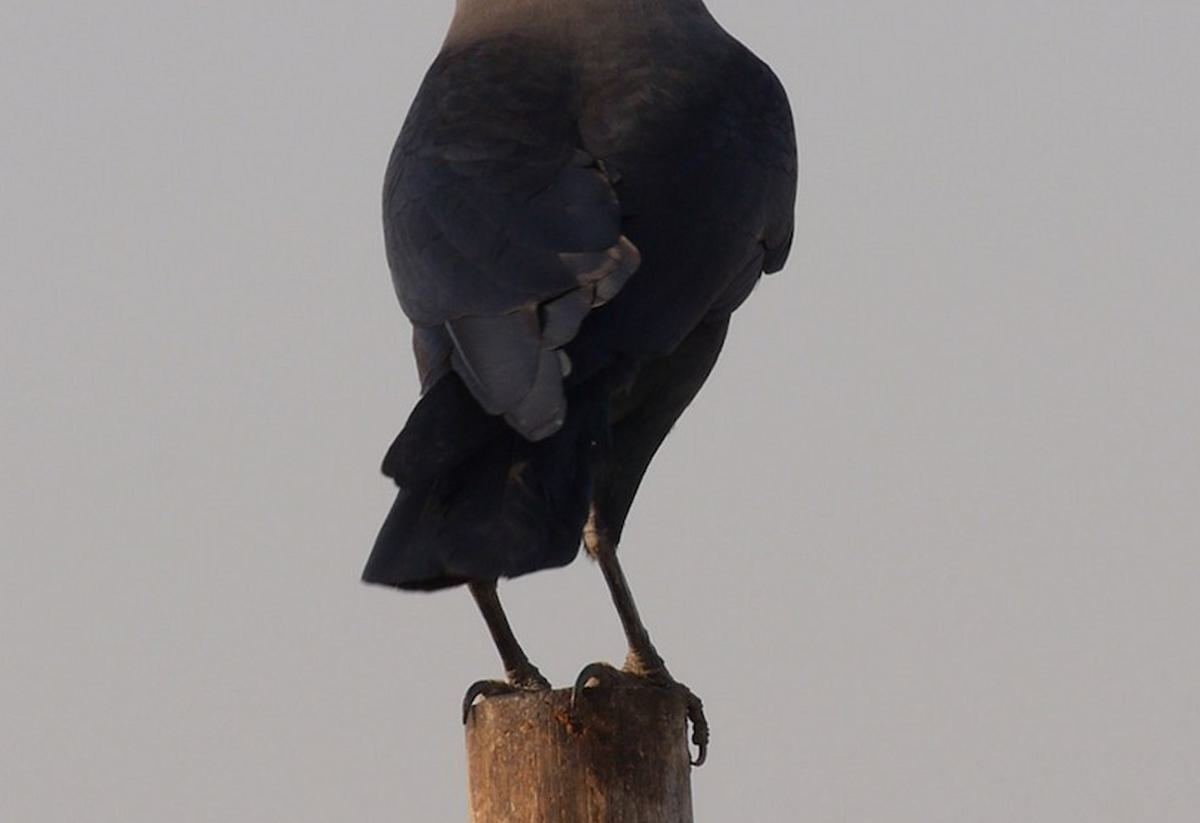crow: (315, 1, 783, 768)
